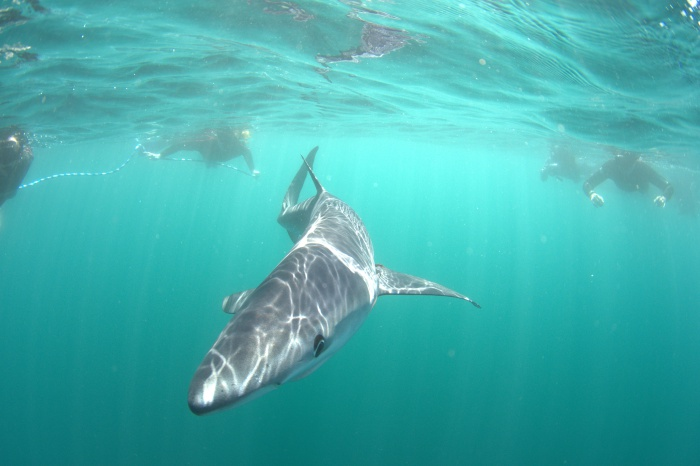Azul: (165, 143, 500, 423)
